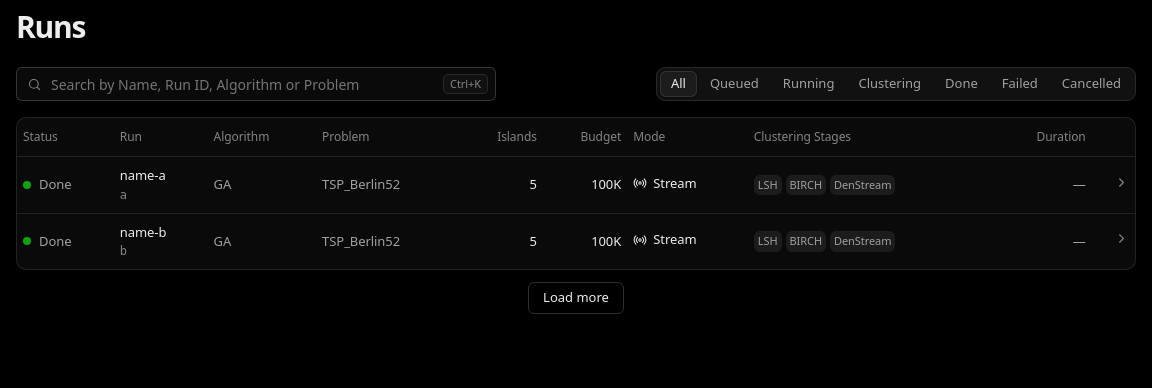
Test: RunsPage › loads further pages with the cursor, skipping runs the first page already shows
The image size is (1152, 388).
Click the button "Load more".
click(576, 298)  # box [528, 282, 624, 314]
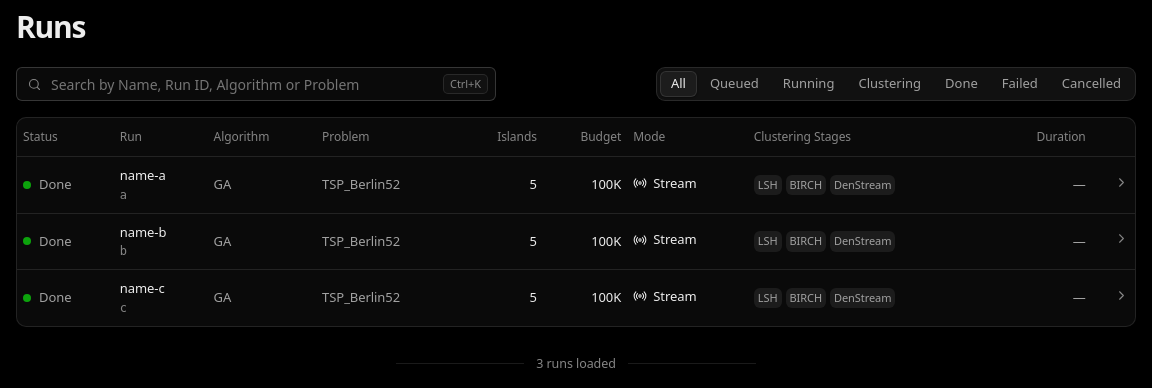
Now the text "3 runs loaded" is shown, box [536, 354, 616, 372]
Now the button "Load more" is gone
